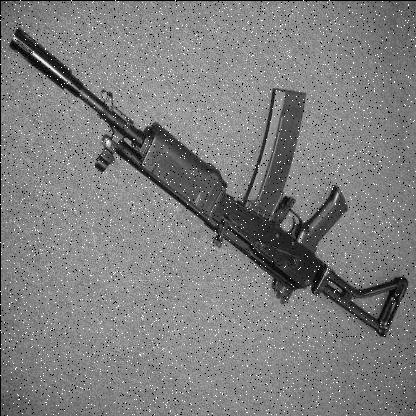rifle: (6, 20, 409, 346)
